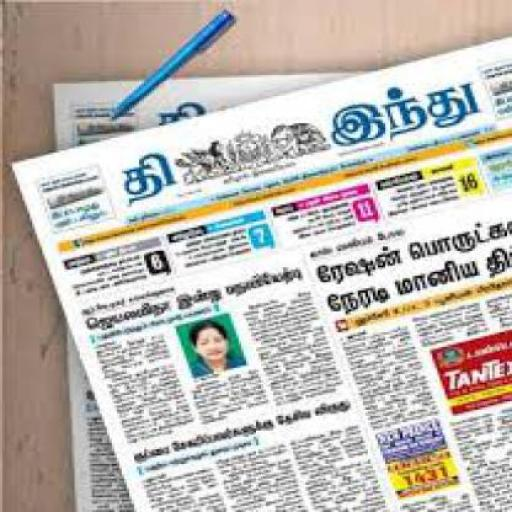paper: (5, 33, 509, 510), (52, 68, 510, 510)
